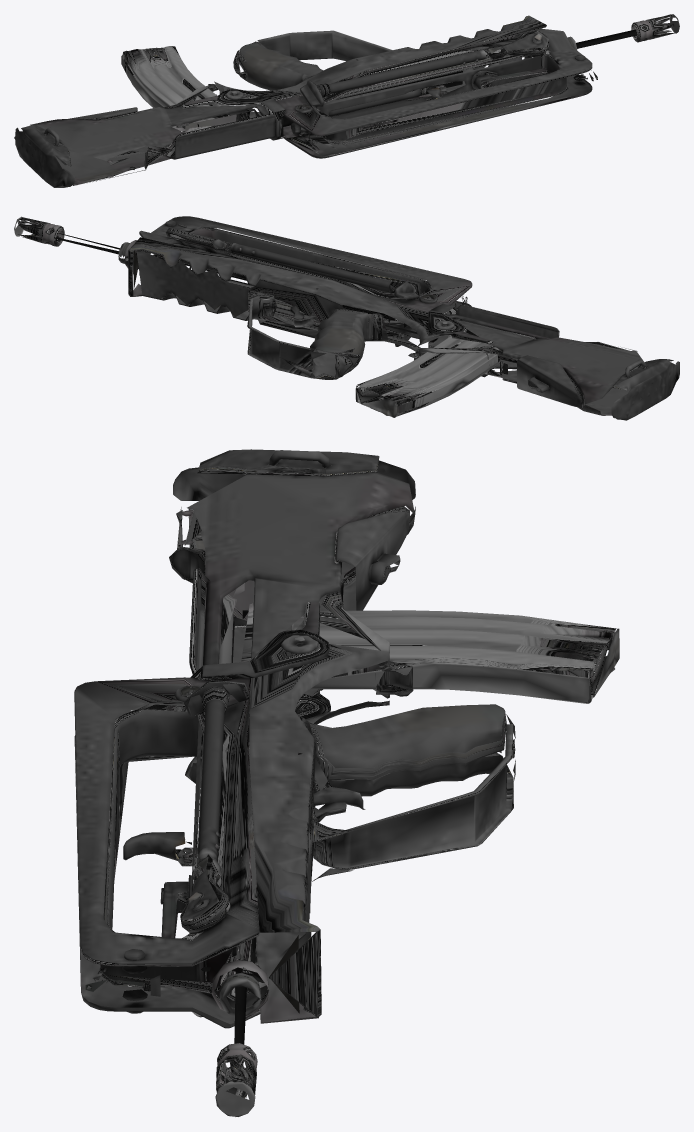
The model's file is w_famas.glb.
The picture shows the model from 3 angles, top to bottom: view 1: azimuth 30°, elevation 25°; view 2: azimuth 150°, elevation 25°; view 3: azimuth 270°, elevation 25°; orthographic projection. The views are drawn at different scales.
Parts seen in each view (by area): view 1: w_famas; view 2: w_famas; view 3: w_famas.
Part boxes in pixels (left/top/right/bottom): w_famas: left=14, top=14, right=679, bottom=187; w_famas: left=14, top=216, right=679, bottom=420; w_famas: left=74, top=449, right=619, bottom=1116.
Size of the model in its own units: 1.1 by 0.104 by 0.4162.
Materials: 1 (1 with a texture image).
